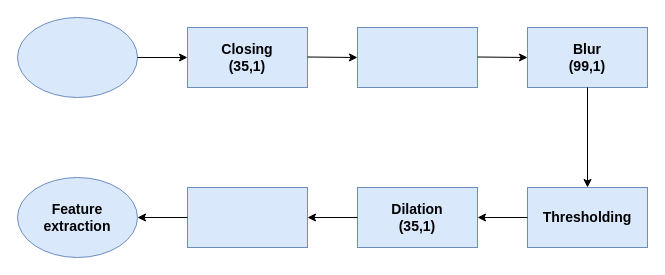
This 665x275 diagram has some shape labels left out. The centre of each missing label's shape, as x and y in pixels:
Binary Image: pixel 77 57
Erosion (1,60): pixel 417 57
Labeling: pixel 247 217
